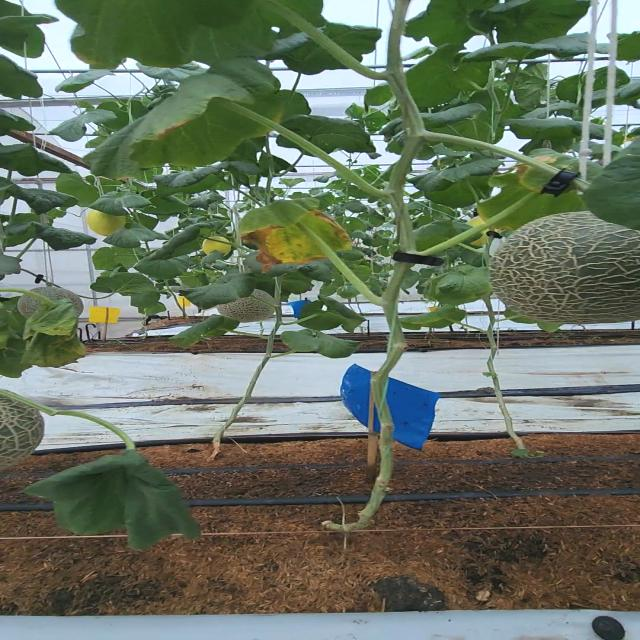Melon: (488, 211, 640, 325)
